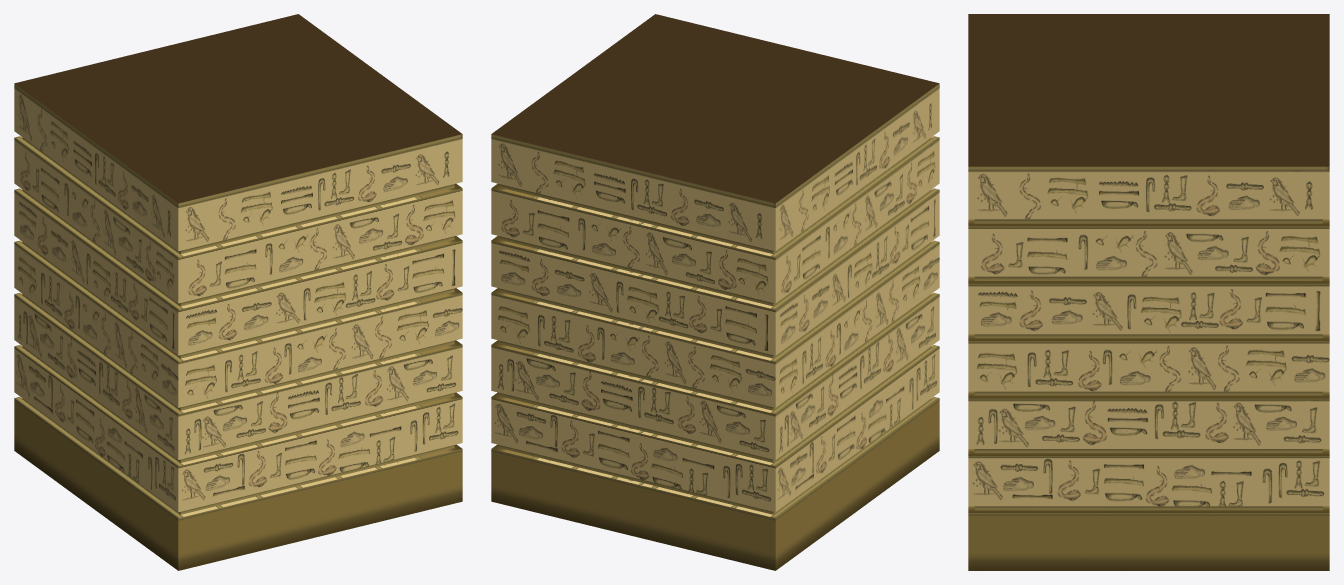
File: Column 1.FBX
3 renders of one model, left to right at view 1: azimuth 30°, elevation 25°; view 2: azimuth 150°, elevation 25°; view 3: azimuth 270°, elevation 25°, orthographic. The views are drawn at different scales.
Visible parts, largest first — view 1: Blockade1; view 2: Blockade1; view 3: Blockade1.
Boxes of the visible parts, bbox=[...] form: Blockade1: bbox=[14, 14, 462, 570]; Blockade1: bbox=[491, 14, 939, 570]; Blockade1: bbox=[968, 14, 1329, 570].
Size of the model in its own units: 78.74 by 97.29 by 78.76.
